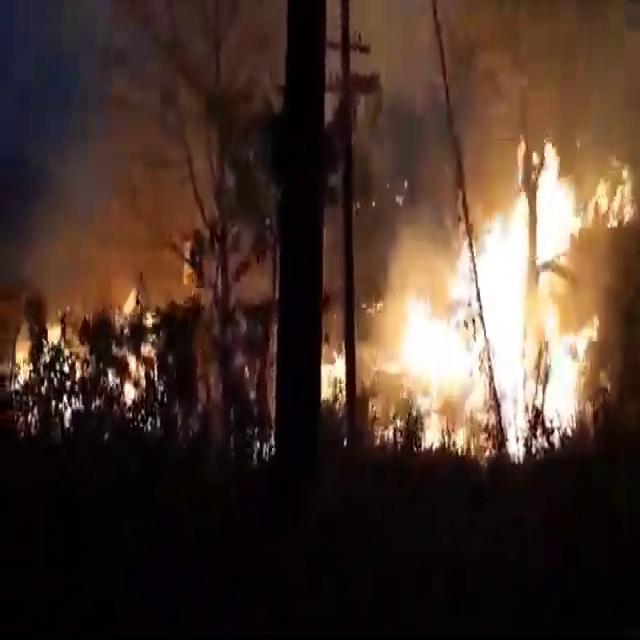Fire: (381, 148, 633, 450), (112, 288, 160, 416), (1, 322, 38, 388), (56, 369, 86, 440), (44, 313, 68, 377)
Smoke: (326, 0, 640, 158), (21, 35, 186, 268), (376, 181, 448, 296)
